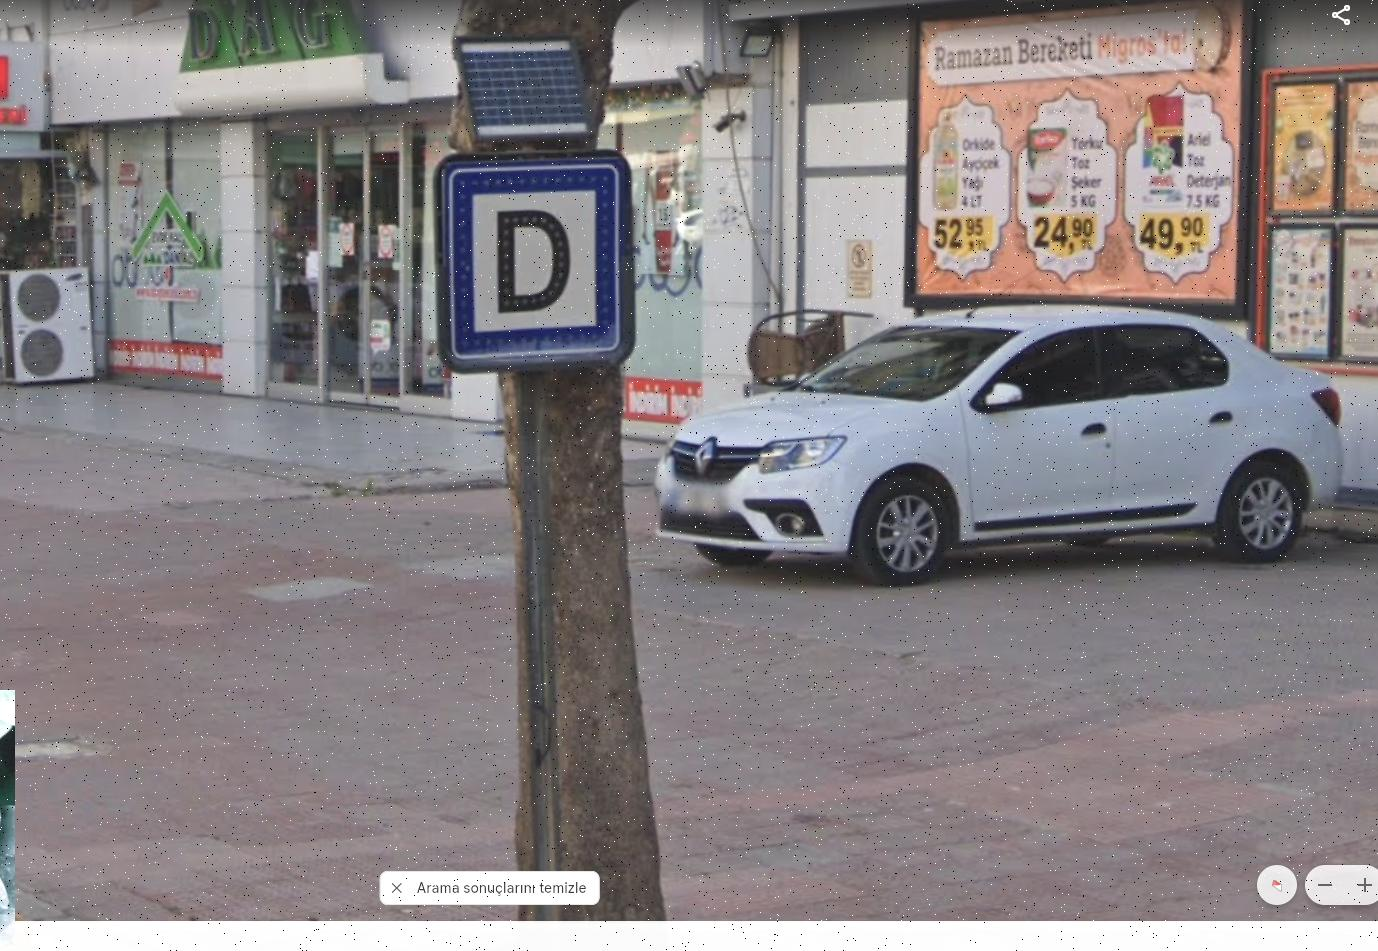station: (472, 198, 594, 329)
